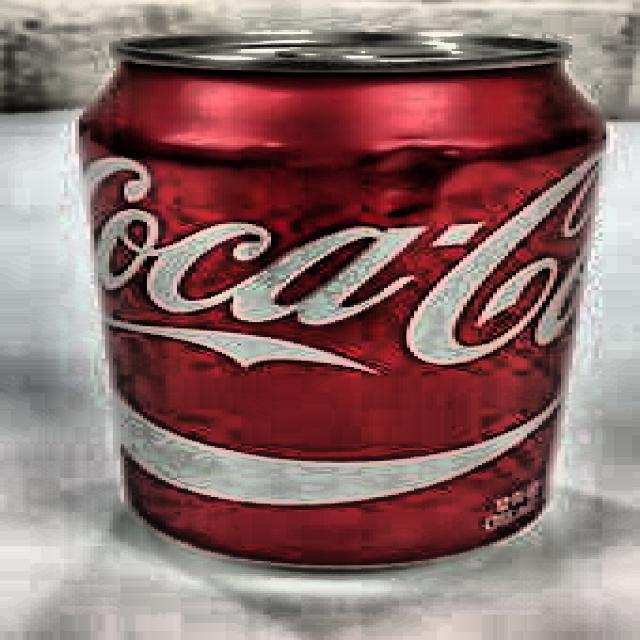Cans: (58, 25, 613, 577)
